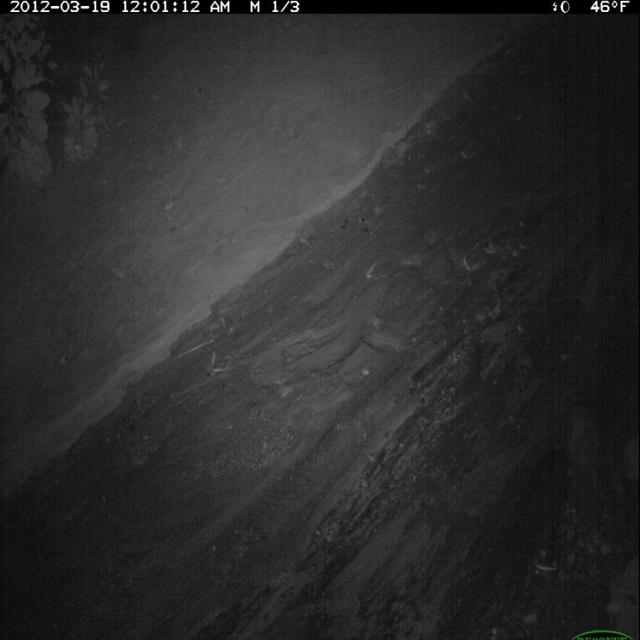cat: (562, 382, 622, 537)
